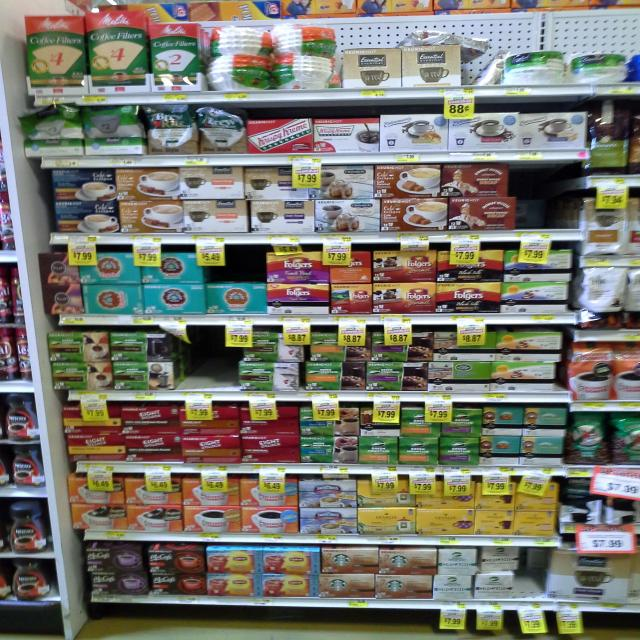void: (181, 325, 233, 402)
